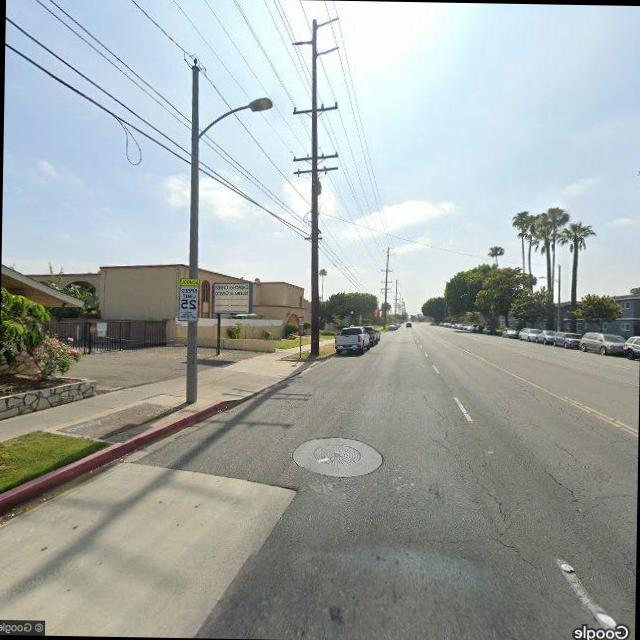crack: (418, 394, 536, 566), (544, 464, 588, 511)
